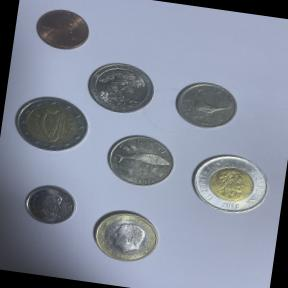coin: (179, 138, 285, 226), (76, 198, 171, 275), (92, 120, 186, 197), (5, 90, 94, 158), (80, 56, 161, 118), (21, 0, 100, 60), (14, 176, 86, 235)
